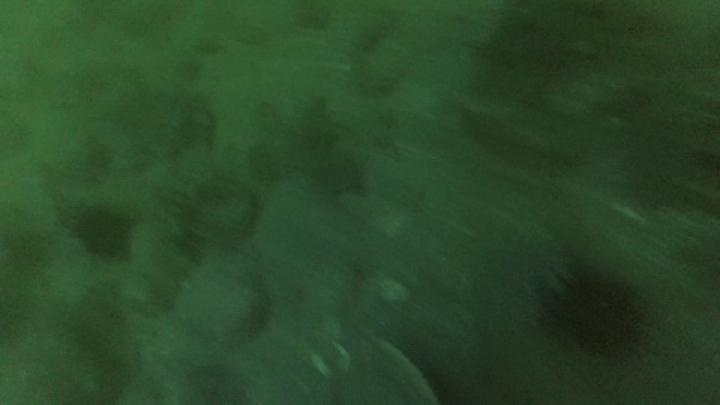echinus: (538, 258, 654, 364), (70, 201, 136, 262)
